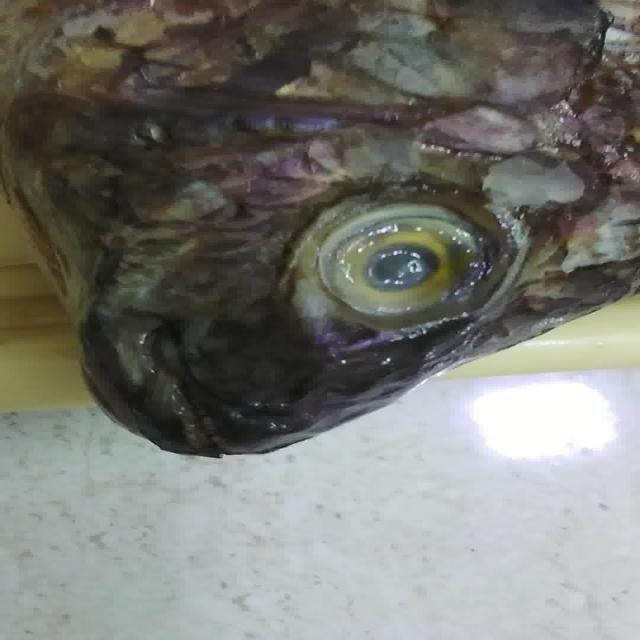Non-Fresh: (298, 186, 518, 346)
